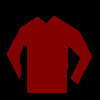abbigliamento_uomo: (6, 15, 92, 93)
